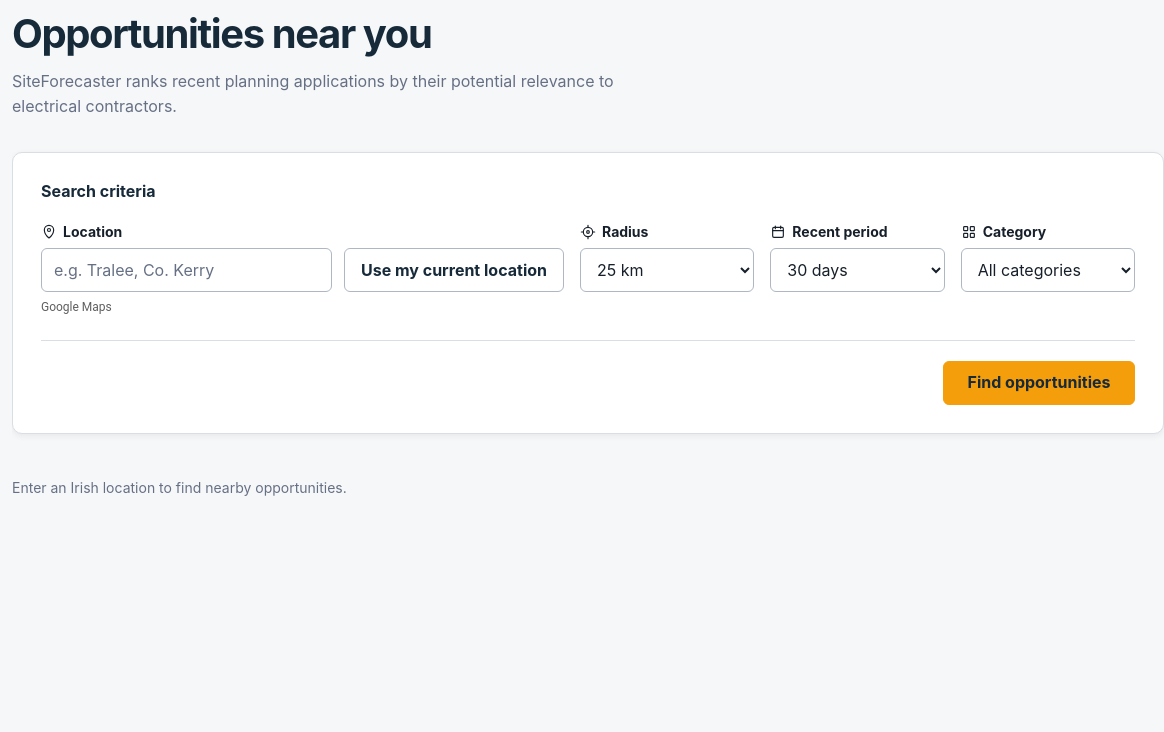
Test: OpportunitiesPage › omits category from current-location searches for All categories
Click the button "Use my current location" at coordinates (454, 270), box [344,248,564,292]
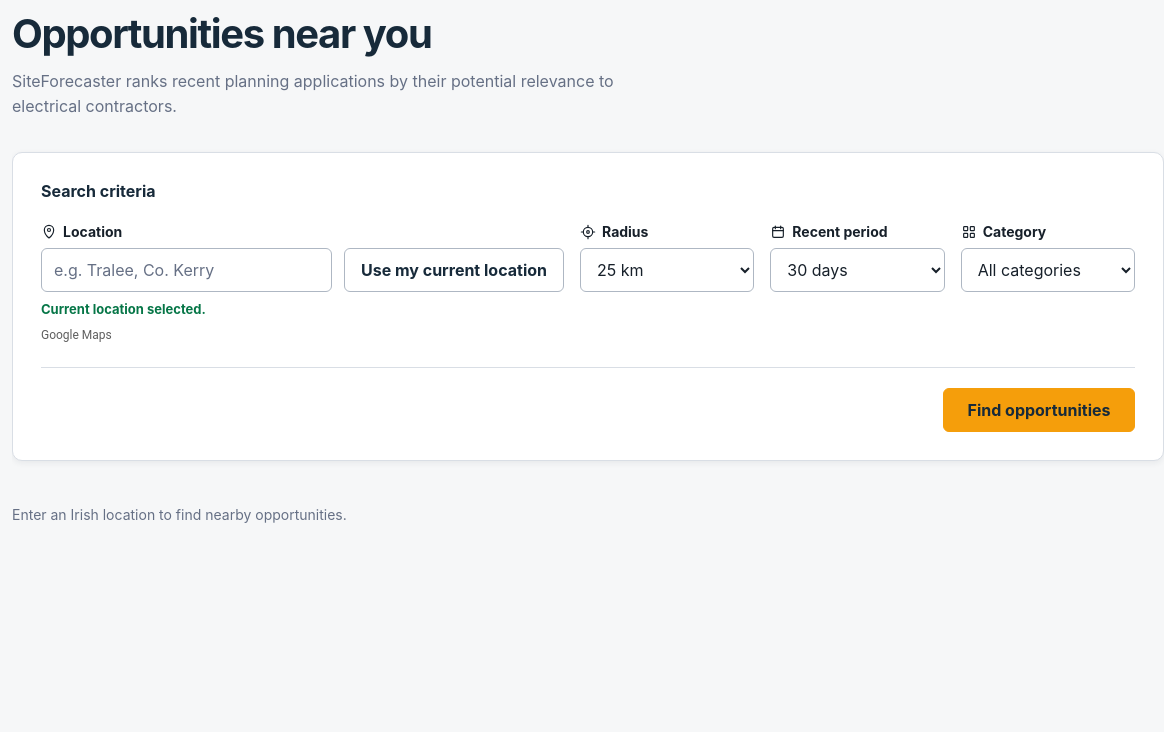
Select "25 km" in the dropdown labelled "Radius" at coordinates (667, 270), box [580,248,754,292]
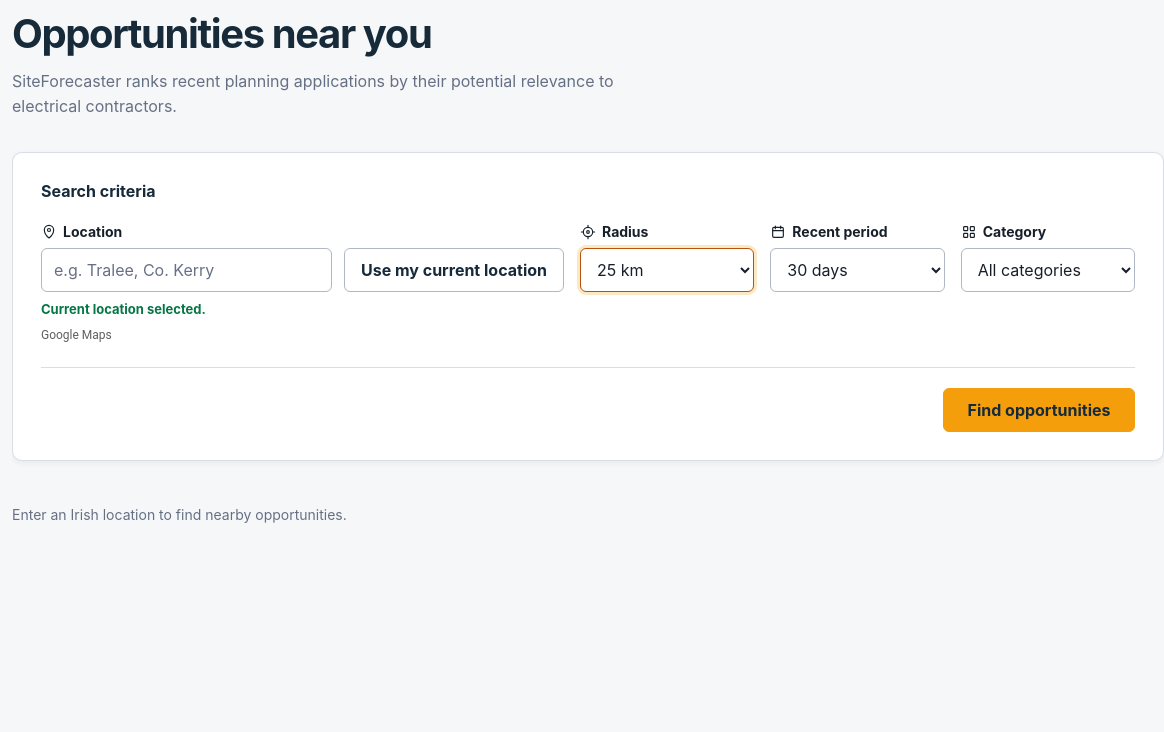
Select "30 days" in the dropdown labelled "Recent period" at coordinates (857, 270), box [770,248,945,292]
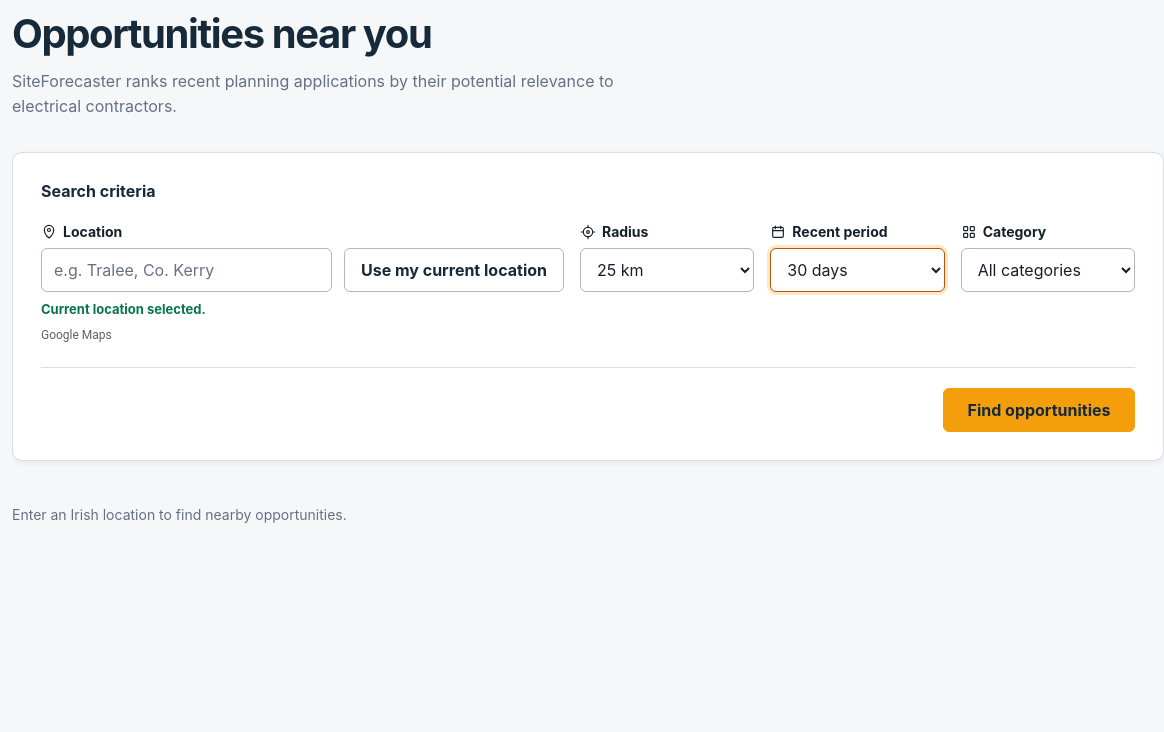
Click the button "Find opportunities" at coordinates (1039, 410), box [943,388,1135,432]
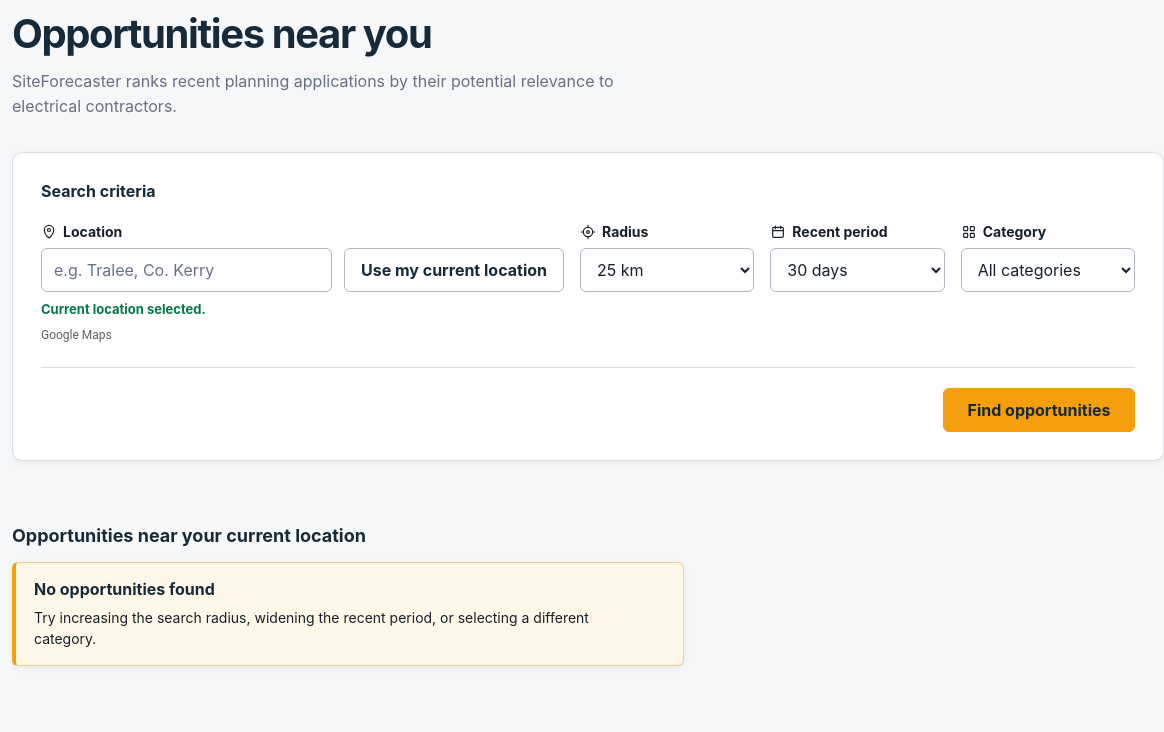
Check: the heading "No opportunities found" is shown, box [34,579,215,599]
